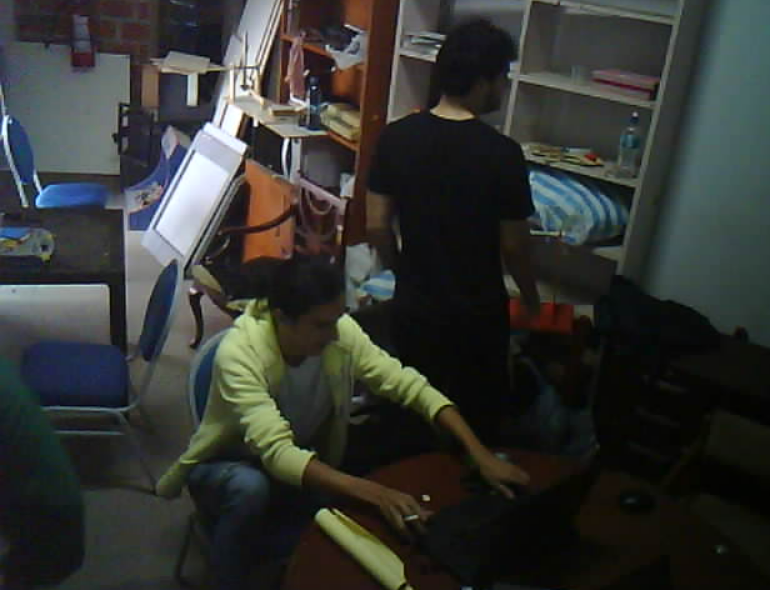person: (137, 237, 534, 590), (347, 6, 557, 454)
